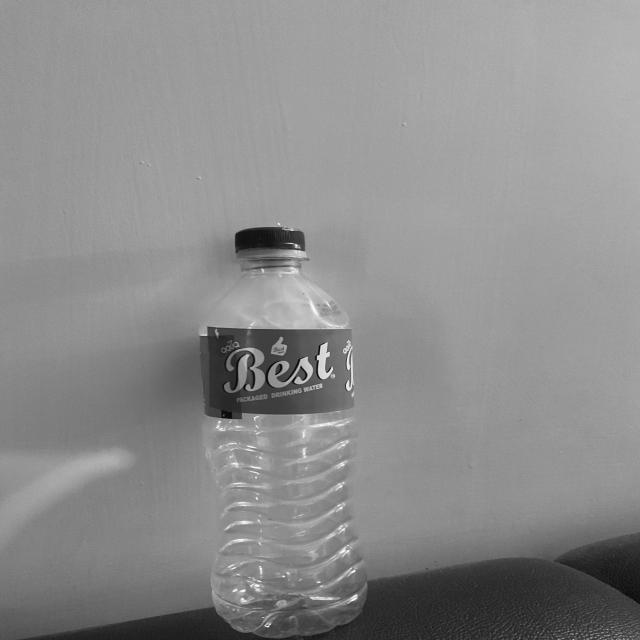Good-cap-Df0S: (230, 224, 310, 264)
